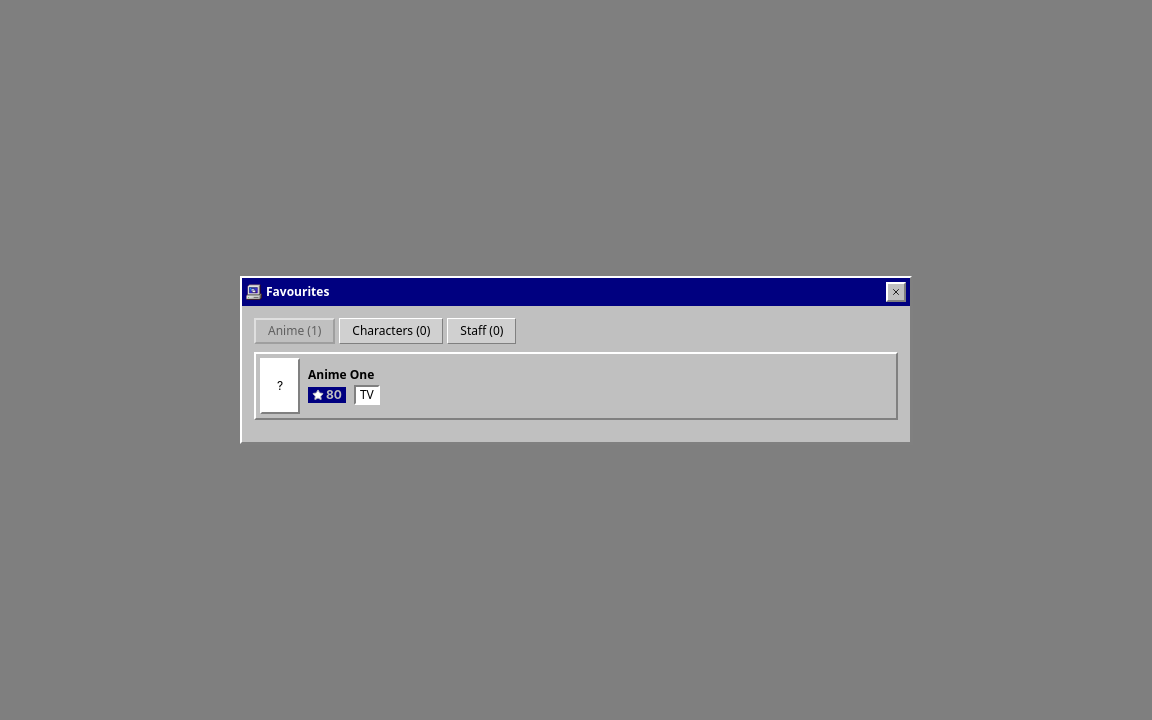
Test: AniListFavouritesModal tabs › shows a per-tab empty state
Click the tab "Staff (0)" at (482, 331), box [447,318,516,344]
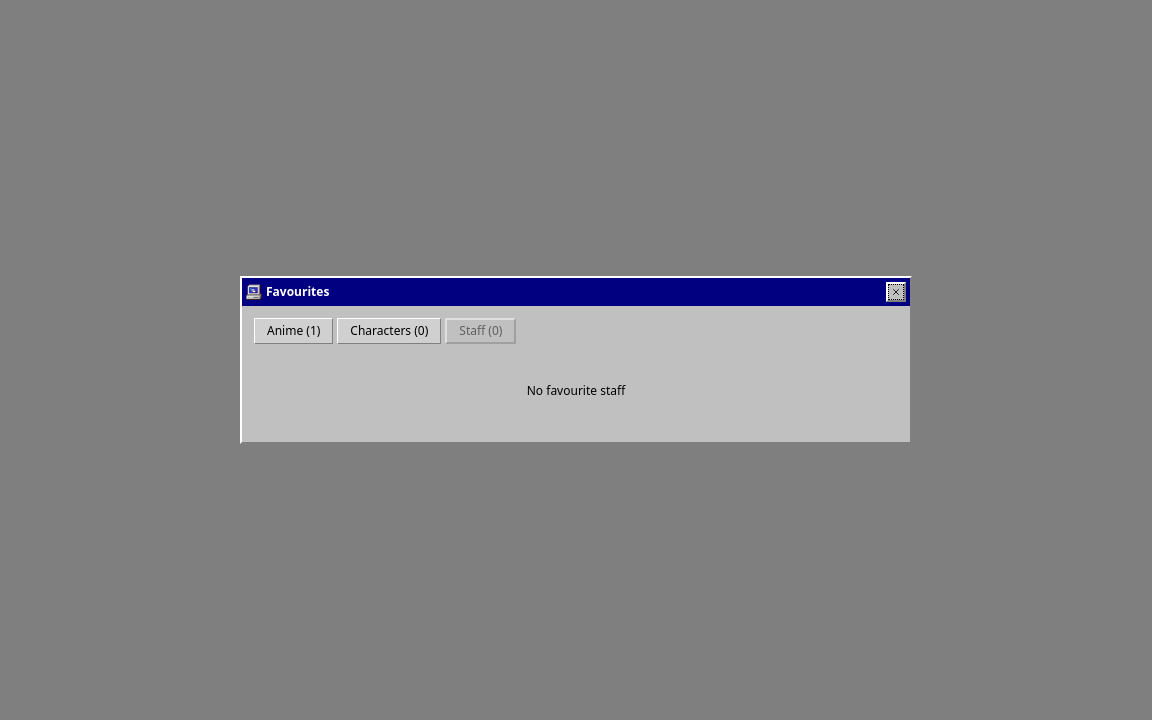
Check: the text "No favourite staff" is shown, box [527,382,625,400]
